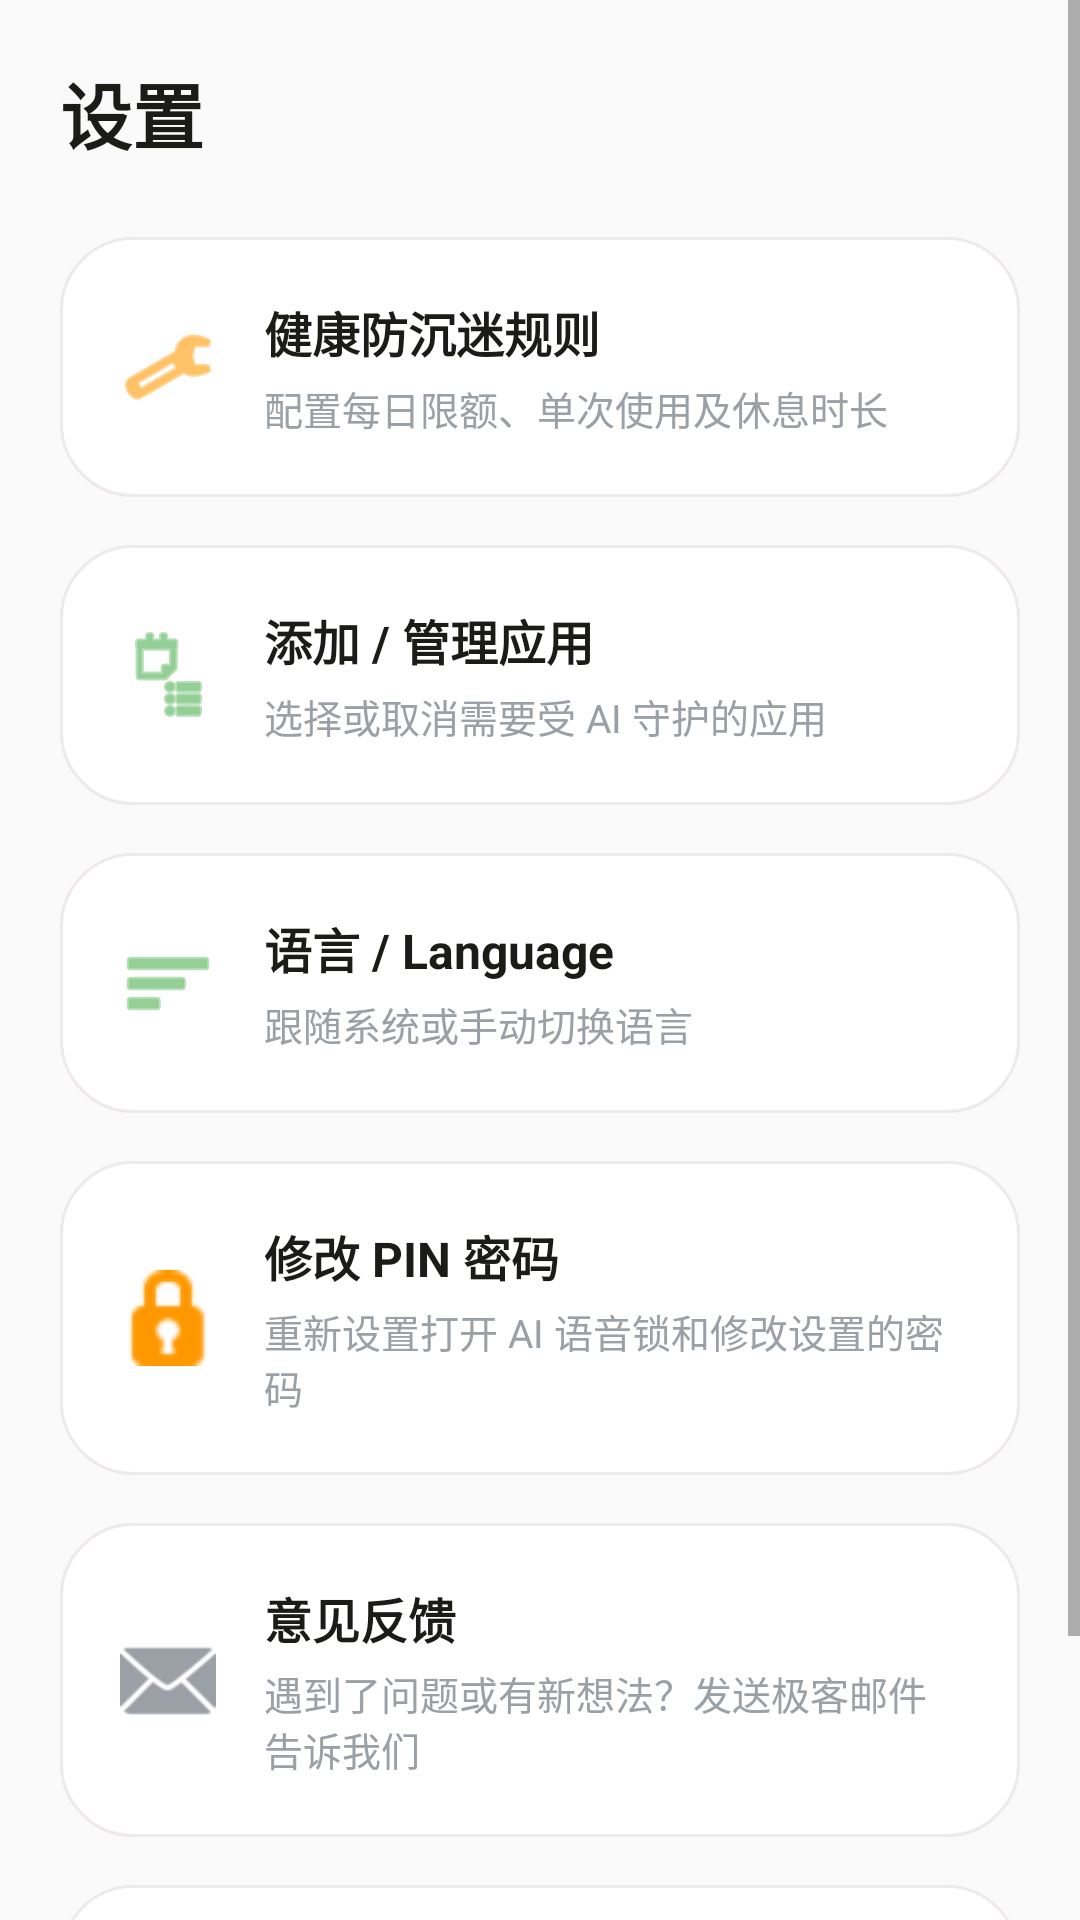

Screen size 1080 × 1920. Icon name, then its box in pixels as (x1, y1, x2, y2):
agenda: (135, 632, 202, 717)
email: (120, 1647, 216, 1715)
preferences: (125, 334, 211, 400)
secure: (129, 1270, 205, 1366)
sort by size: (127, 957, 209, 1010)
